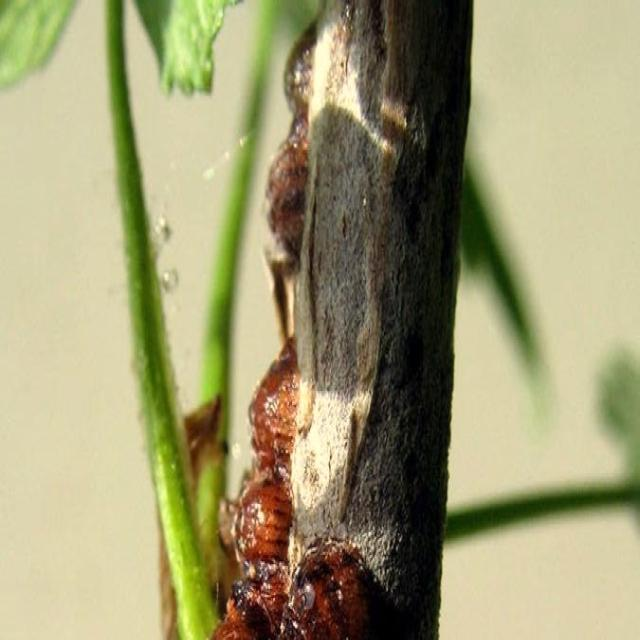Black Scale: (212, 339, 298, 638), (265, 22, 316, 280), (281, 538, 394, 638)
